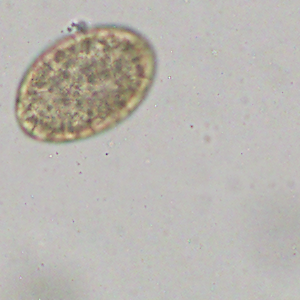Fasciola_hepatica_egg: (13, 22, 160, 145)
